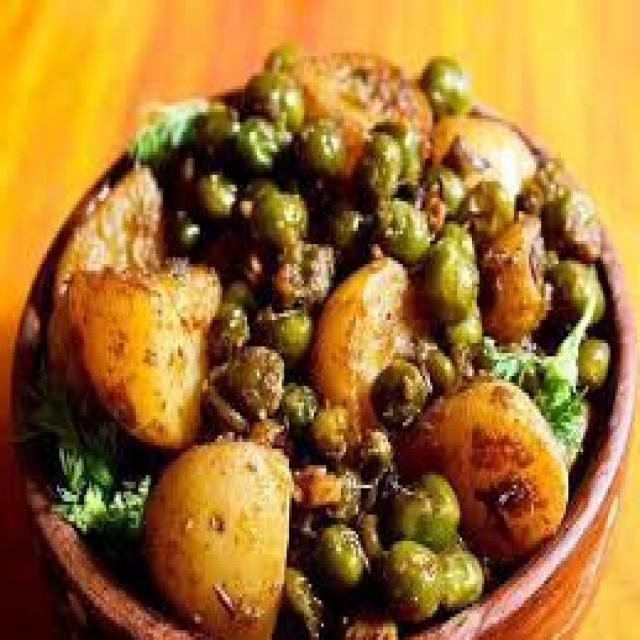Aloo Matar: (33, 43, 608, 638)
